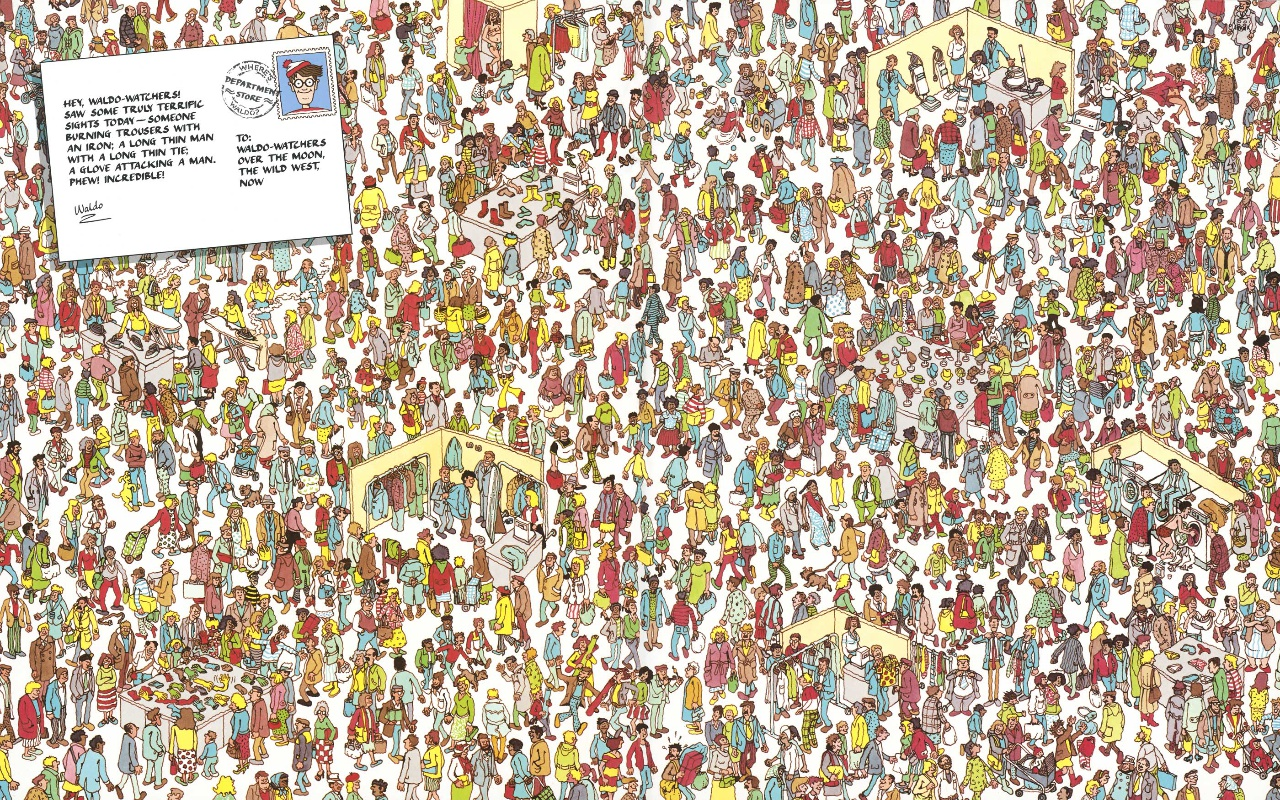waldo: (532, 130, 548, 173)
